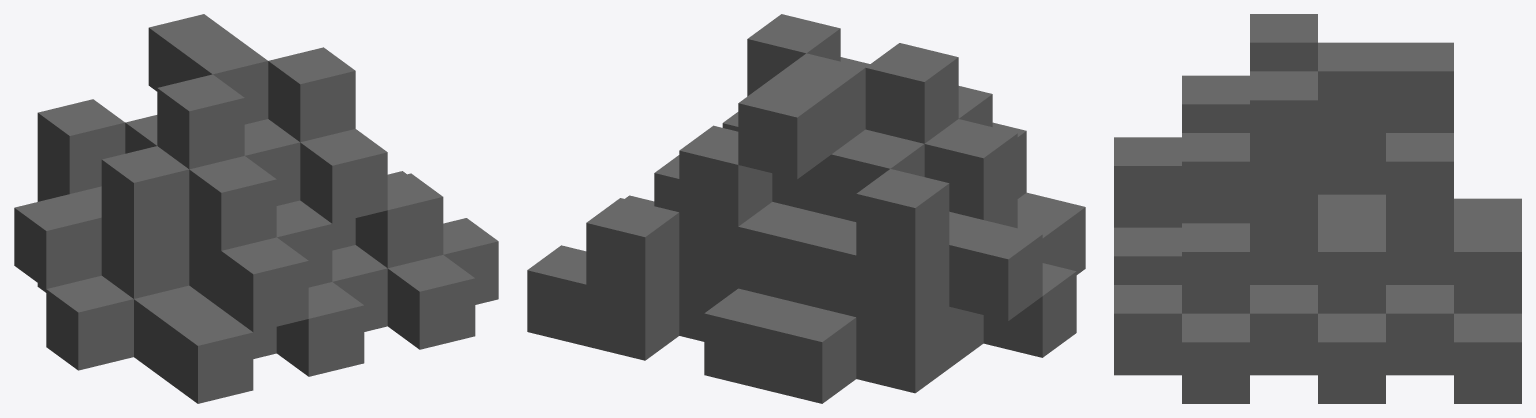
Rendered from iron_dust.dae.
3 renders of one model, left to right at view 1: azimuth 30°, elevation 25°; view 2: azimuth 150°, elevation 25°; view 3: azimuth 270°, elevation 25°, orthographic. The views are drawn at different scales.
Visible parts, largest first — view 1: iron_dust; view 2: iron_dust; view 3: iron_dust.
Part boxes in pixels (x1,y1,x2,y2): iron_dust: [14, 14, 498, 403]; iron_dust: [527, 14, 1085, 403]; iron_dust: [1114, 14, 1521, 403].
Bounding box in the file's own units: 0.7 × 0.4 × 0.6.
Materials: 1 (1 with a texture image).
